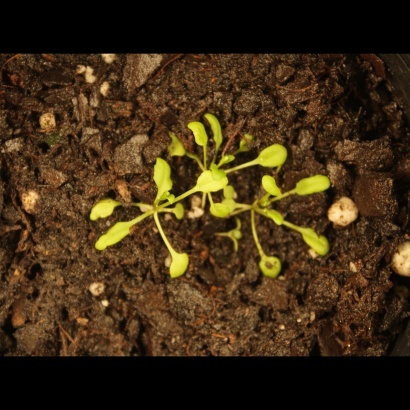leaf: (157, 247, 202, 286), (151, 153, 177, 207), (93, 223, 138, 253), (297, 224, 333, 259), (84, 194, 119, 226), (292, 174, 333, 199), (257, 254, 289, 284), (260, 141, 291, 170), (207, 111, 230, 150), (185, 120, 211, 153), (162, 131, 189, 162), (196, 168, 230, 192), (258, 175, 286, 201), (169, 201, 192, 224), (235, 131, 258, 154), (214, 150, 237, 173), (220, 238, 243, 261), (228, 218, 251, 241), (265, 207, 288, 230), (207, 200, 230, 223), (218, 198, 241, 221), (216, 180, 239, 203)
